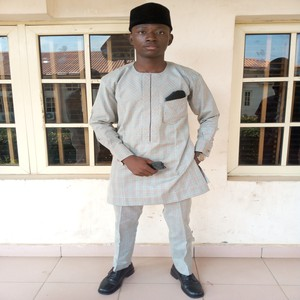Fulokoja_male_student: (93, 7, 205, 294)
